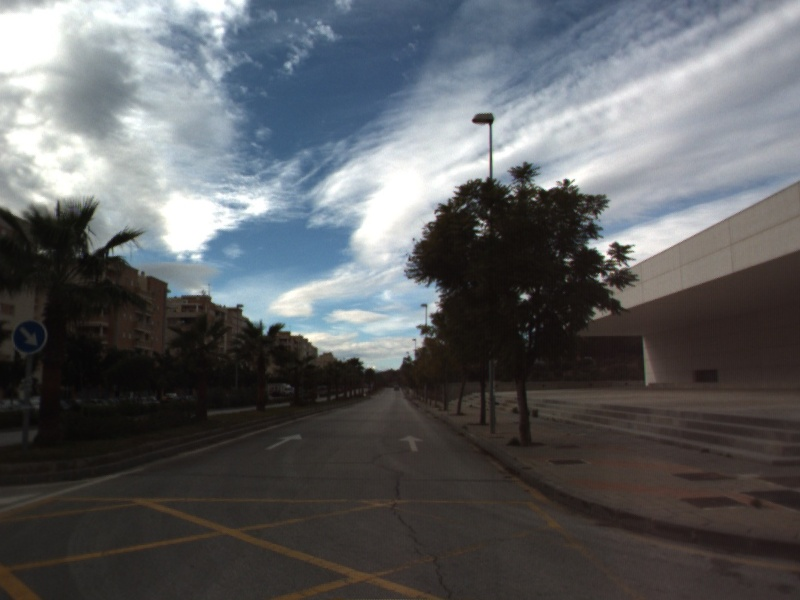STRAIGHT: (264, 431, 304, 451), (398, 433, 426, 453)
